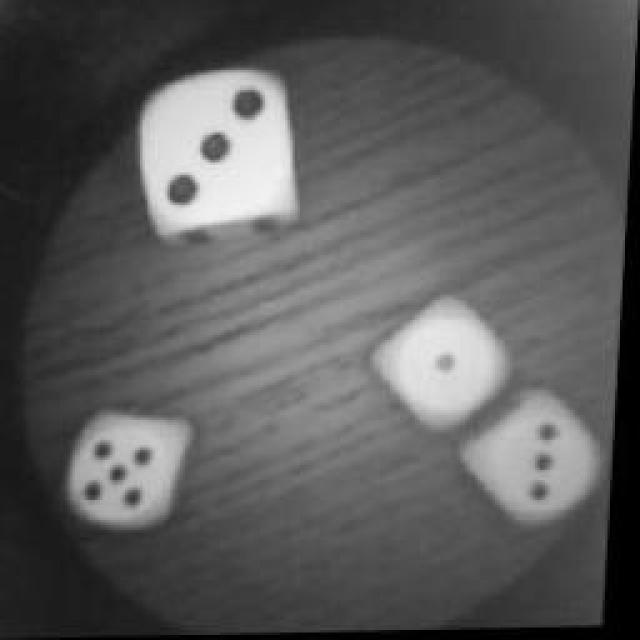dice_1: (376, 295, 526, 440)
dice_3: (135, 66, 307, 236), (473, 394, 615, 534)
dice_5: (62, 404, 196, 538)
